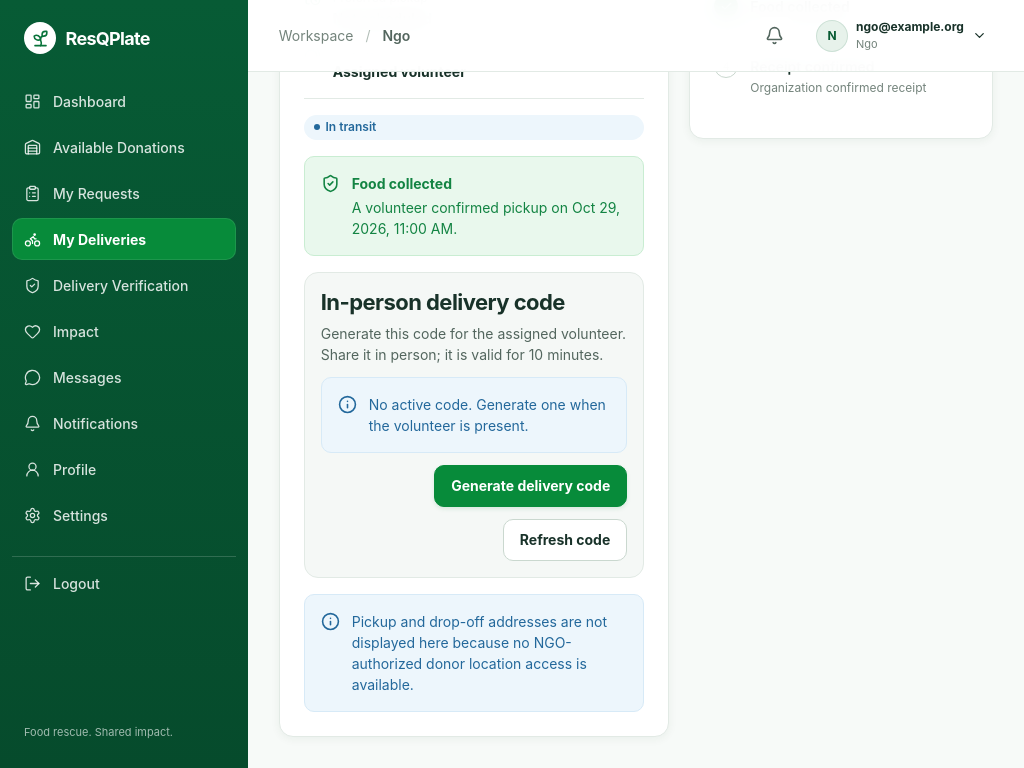
Test case: NGO in-app delivery verification › lets the NGO owner generate a new code through the trusted function
The image size is (1024, 768).
(page scrolled)
What coordinates should you click on to do the following:
click the button "Generate delivery code"
I would click on:
 (531, 486)
Its box is [434,465,627,507].
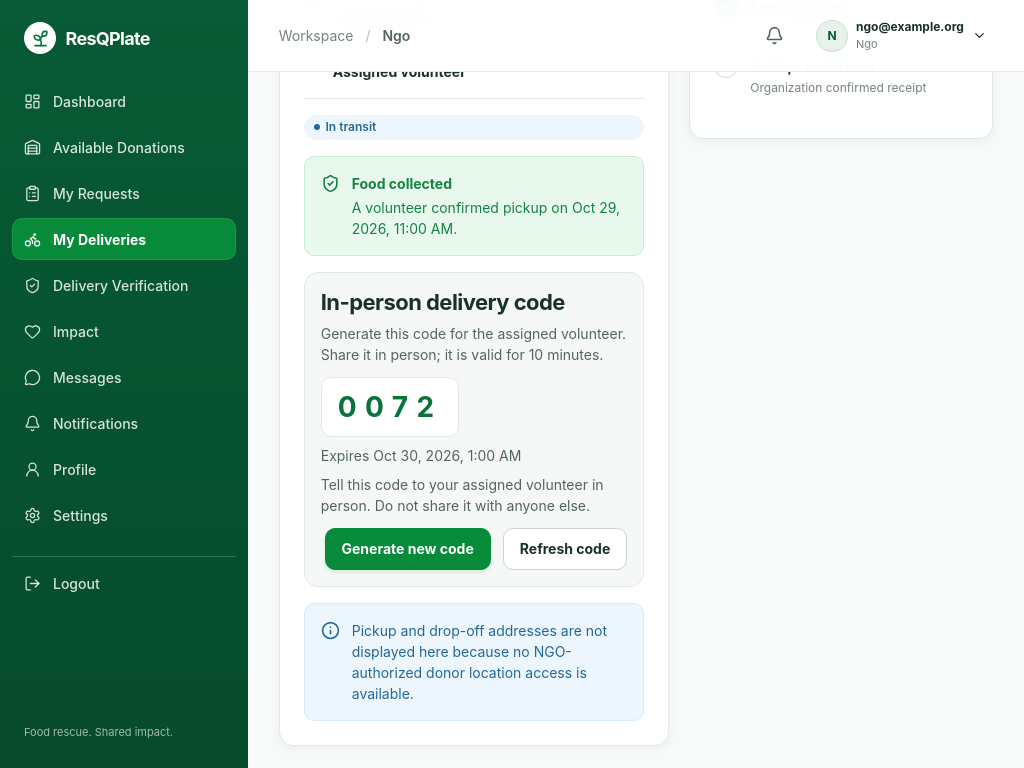
Result: the text named "Active delivery code" reads "0072" at [338,390,442,424]
